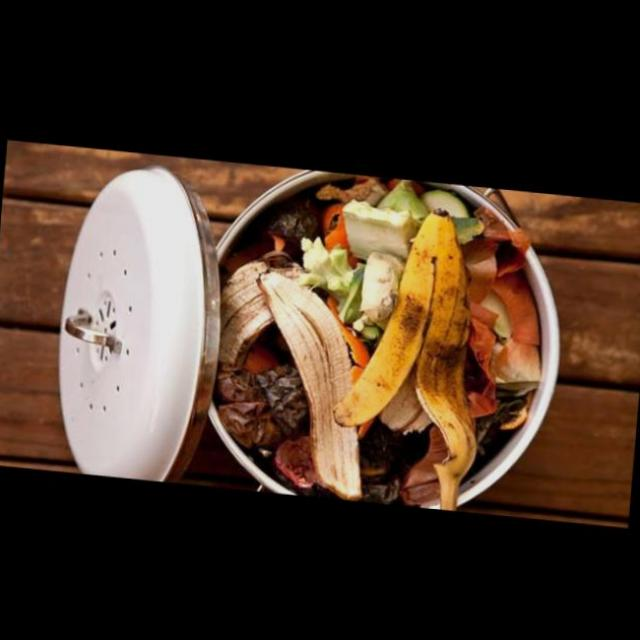vo_rau_cu: (463, 219, 545, 434), (298, 197, 412, 342), (214, 341, 298, 461), (344, 180, 475, 256), (249, 201, 320, 263)
vo_trai_cay: (334, 210, 478, 508), (220, 261, 363, 498)
